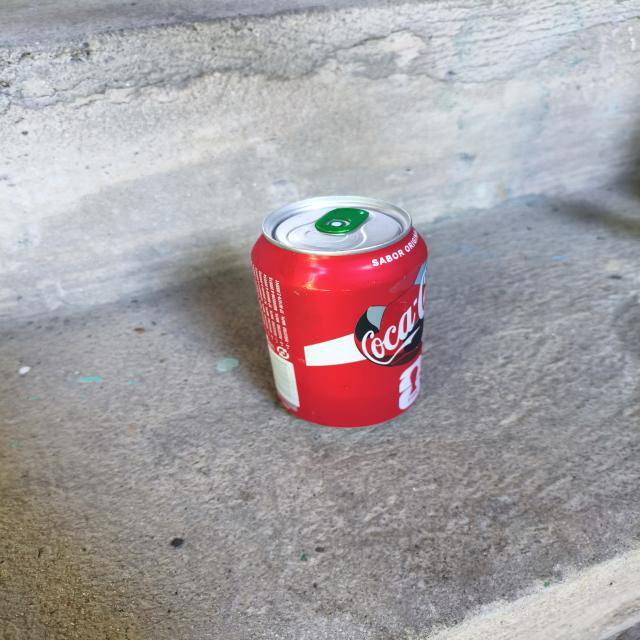Coca Cola: (228, 191, 489, 453)
